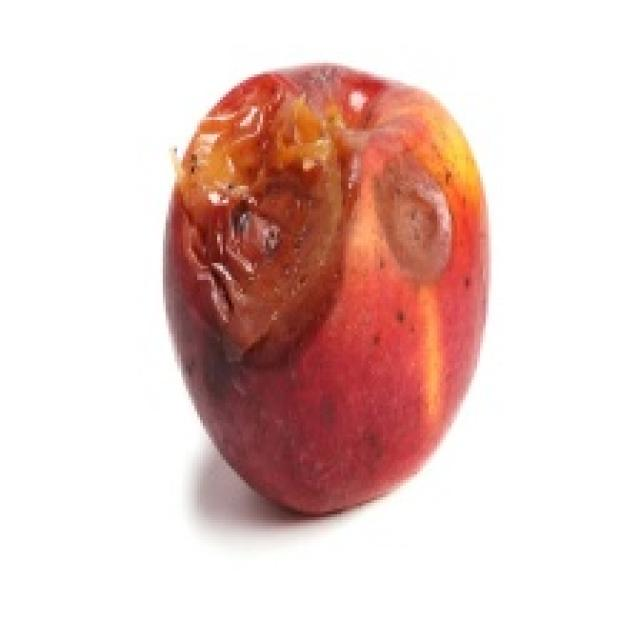rotten_apple: (171, 68, 488, 513)
